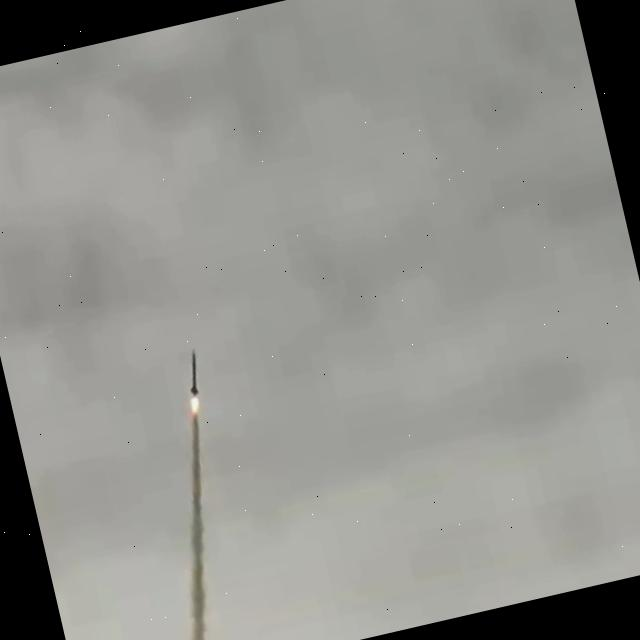smoke_trail_with_rocket: (186, 350, 208, 640)
